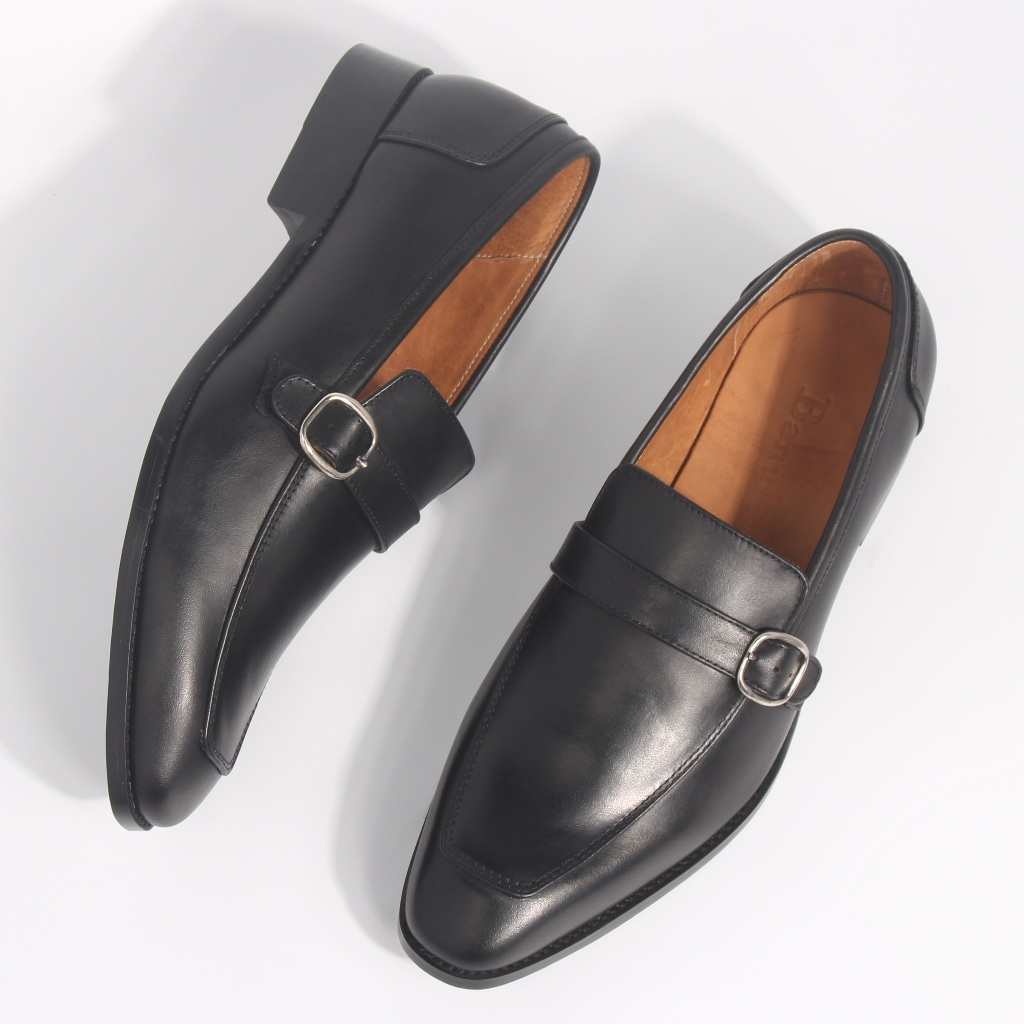loafers: (396, 232, 933, 989), (103, 42, 601, 833)
